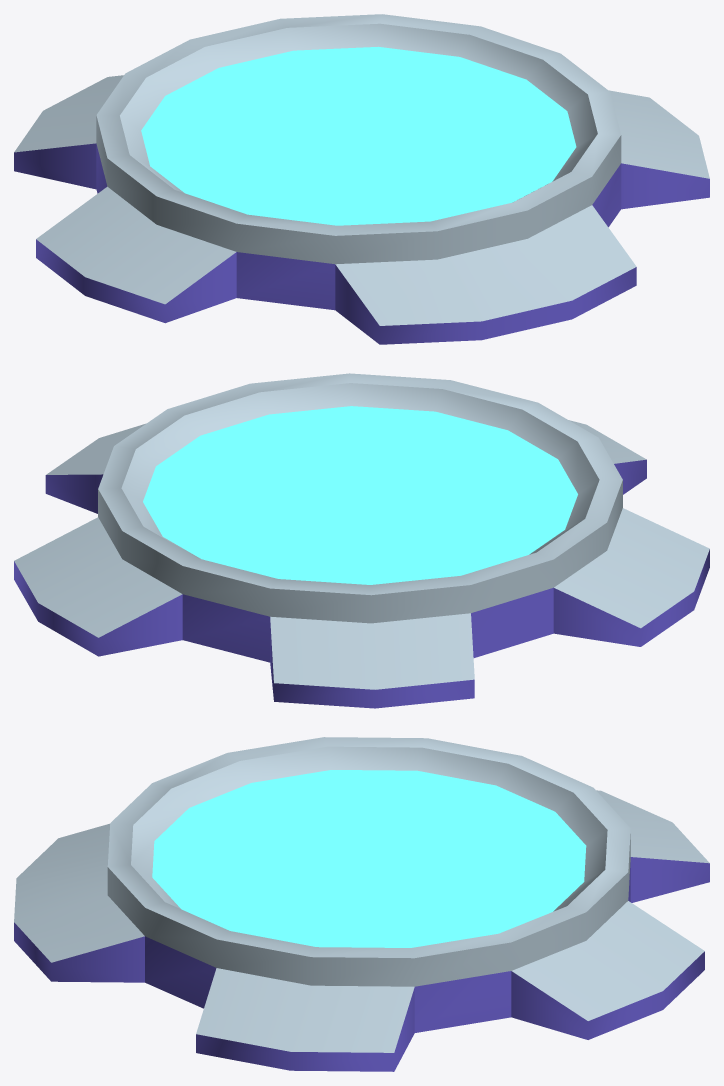
The model's file is SpawnPad.fbx.
3 views of the same model, one above another, from view 1: azimuth 30°, elevation 25°; view 2: azimuth 150°, elevation 25°; view 3: azimuth 270°, elevation 25° (orthographic).
Parts seen in each view (by area): view 1: CagedRedCap; view 2: CagedRedCap; view 3: CagedRedCap.
Boxes of the visible parts, bbox=[...] form: CagedRedCap: bbox=[14, 14, 709, 344]; CagedRedCap: bbox=[14, 373, 709, 708]; CagedRedCap: bbox=[14, 737, 709, 1071].
Size of the model in its own units: 424 by 49.86 by 418.
